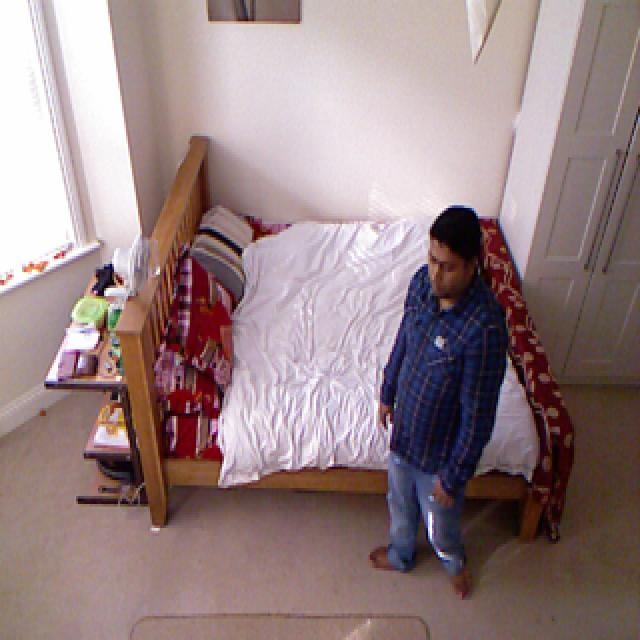standing: (378, 203, 510, 578)
